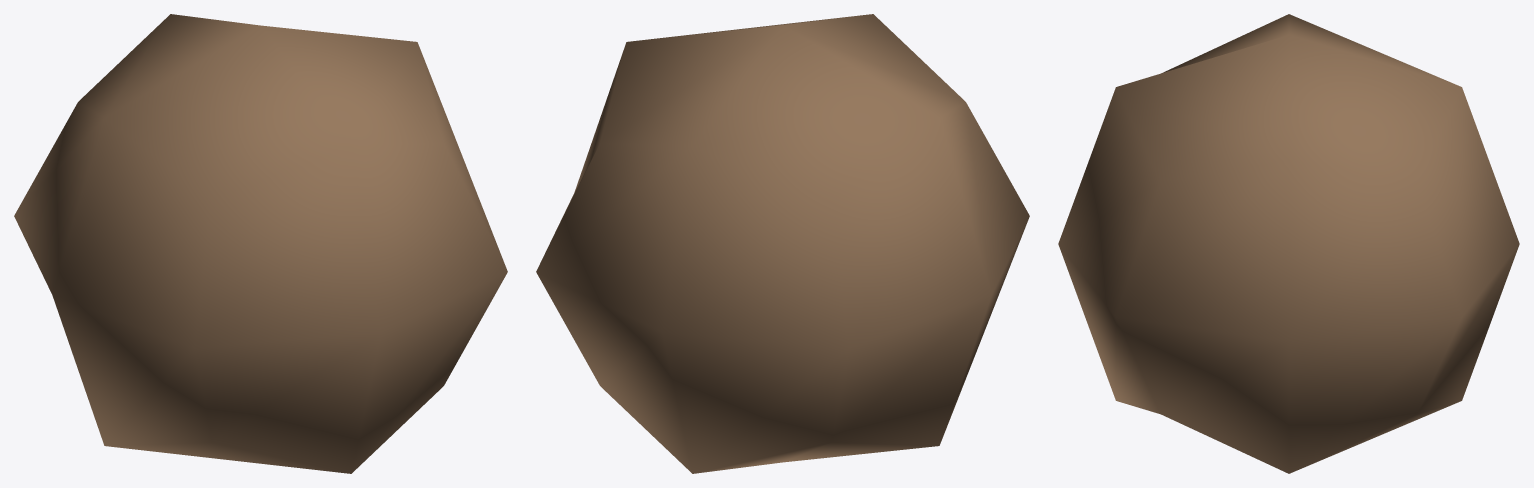
Rendered from iwa.fbx.
The picture shows the model from 3 angles, left to right: view 1: azimuth 30°, elevation 25°; view 2: azimuth 150°, elevation 25°; view 3: azimuth 270°, elevation 25°; orthographic projection. The views are drawn at different scales.
Parts seen in each view (by area): view 1: pCube1; view 2: pCube1; view 3: pCube1.
Boxes of the visible parts, x1,y1,x2,y2 form: pCube1: (14, 14, 507, 473); pCube1: (536, 14, 1029, 473); pCube1: (1058, 14, 1519, 473).
Size of the model in its own units: 1 by 1 by 1.
